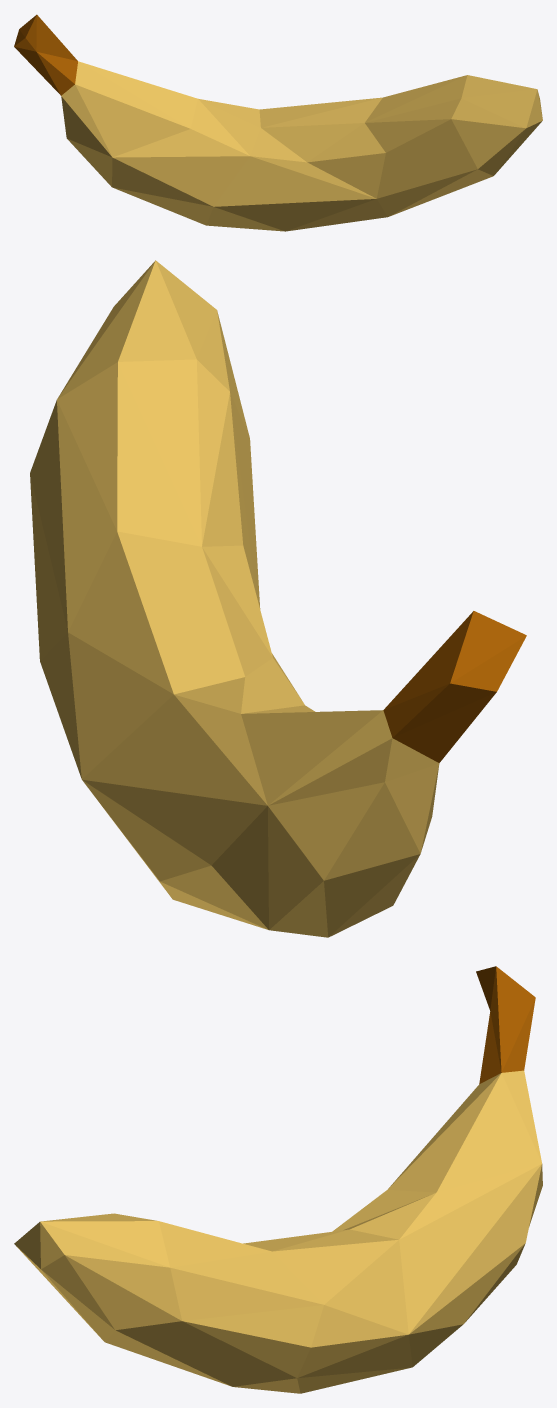
Rendered from low_poly_banana.glb.
3 views of the same model, one above another, from view 1: azimuth 30°, elevation 25°; view 2: azimuth 150°, elevation 25°; view 3: azimuth 270°, elevation 25° (orthographic). The views are drawn at different scales.
Visible parts, largest first — view 1: Object_2, Object_3; view 2: Object_2, Object_3; view 3: Object_2, Object_3.
Part boxes in pixels (box(x1,y1,x2,y2)): Object_2: box(61, 61, 542, 231); Object_3: box(14, 14, 77, 95); Object_2: box(30, 260, 439, 937); Object_3: box(383, 611, 526, 763); Object_2: box(14, 1070, 542, 1393); Object_3: box(476, 966, 535, 1083).
Size of the model in its own units: 140 by 78.46 by 133.
